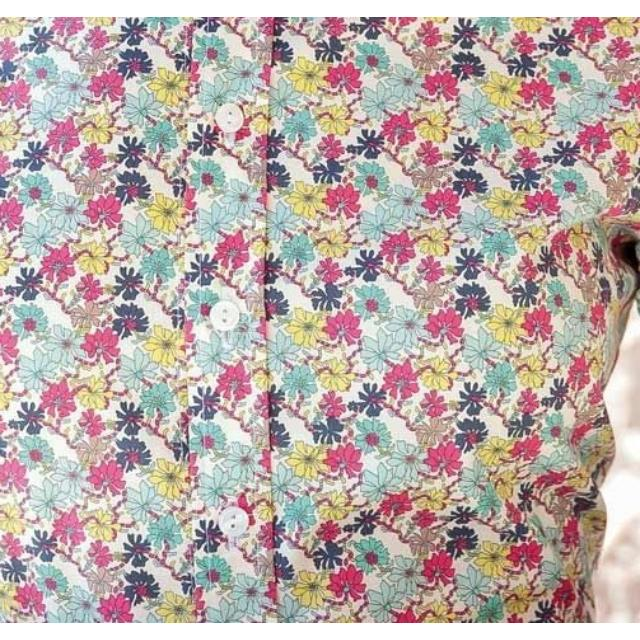cotton: (0, 18, 640, 606)
